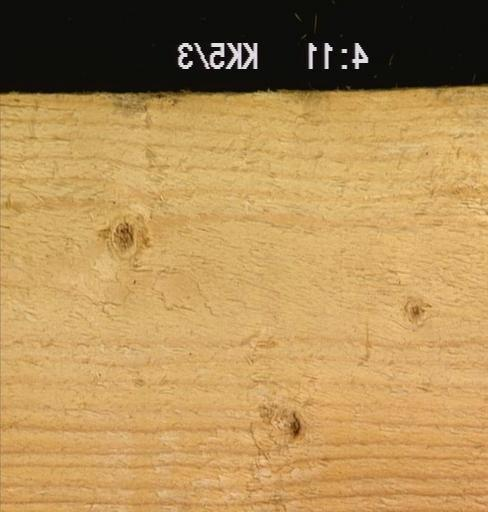small_knot: (403, 295, 427, 321)
sound_knot: (98, 214, 150, 259)
split: (0, 92, 60, 151)
